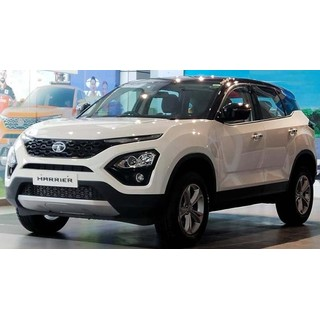car: (5, 77, 317, 247)
